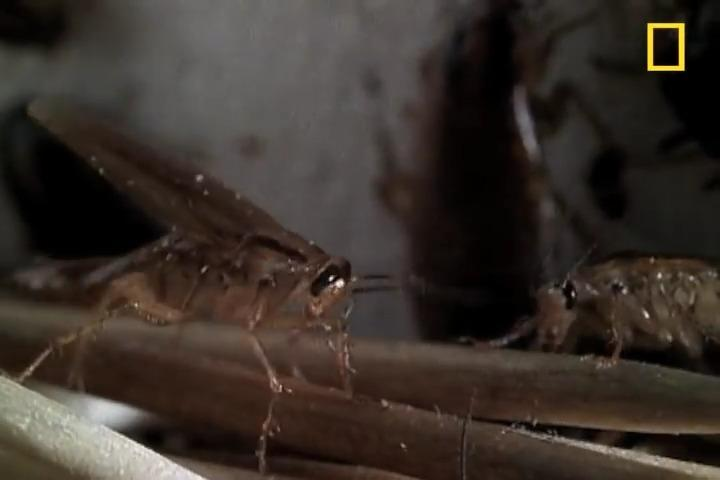cockroach: (12, 94, 445, 426), (453, 225, 720, 390)
